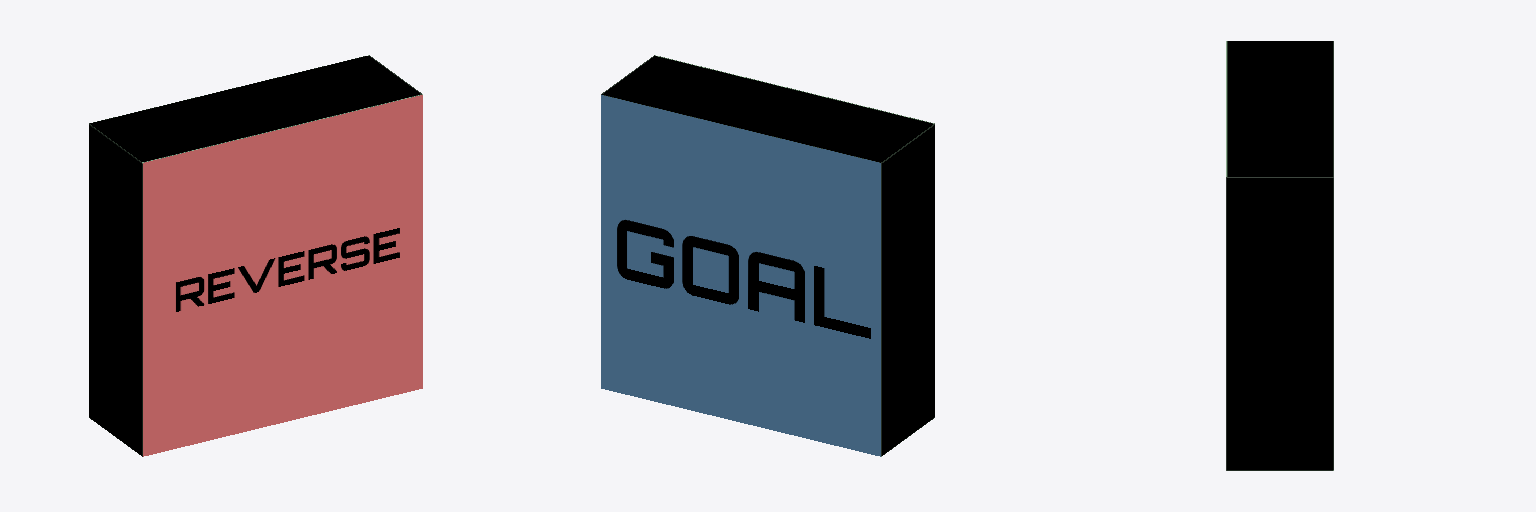
3 views of the same model, side by side, from view 1: azimuth 30°, elevation 25°; view 2: azimuth 150°, elevation 25°; view 3: azimuth 270°, elevation 25° (orthographic).
Visible parts, largest first — view 1: Cube; view 2: Cube; view 3: Cube.
Part boxes in pixels (x1,y1,x2,y2): Cube: (89,55,422,456); Cube: (601,55,934,456); Cube: (1226,41,1333,470).
Bounding box in the file's own units: 6 × 6 × 2.
1 materials, 1 textured.